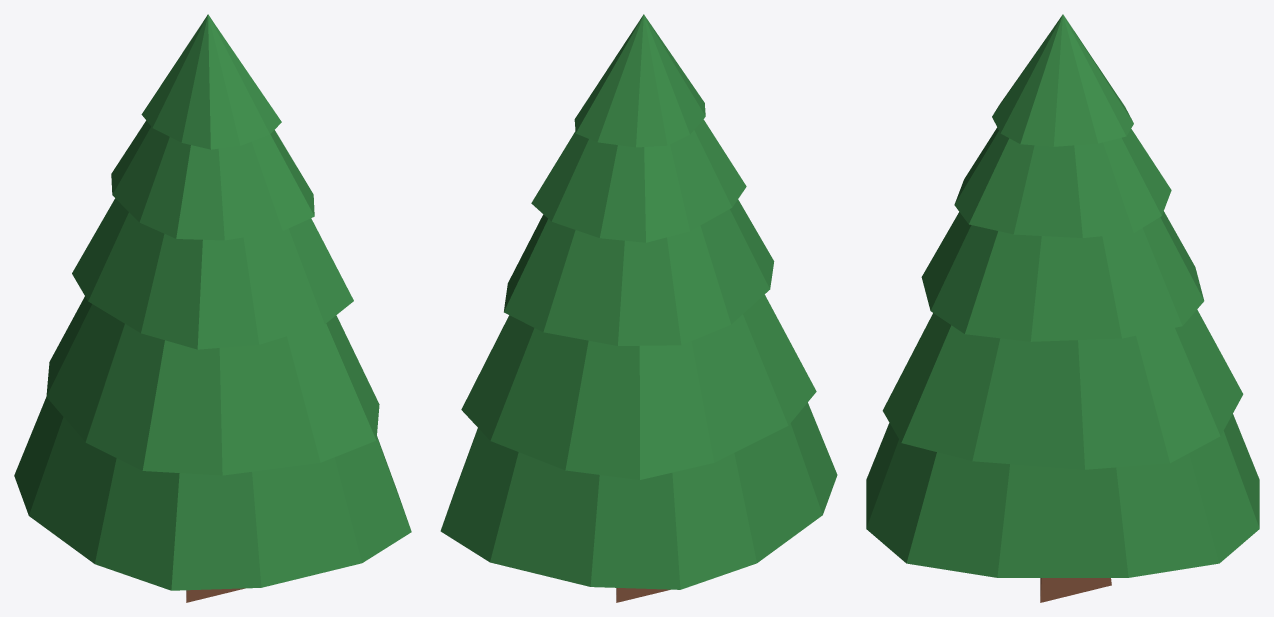
Rendered from tree2.fbx.
3 renders of one model, left to right at view 1: azimuth 30°, elevation 25°; view 2: azimuth 150°, elevation 25°; view 3: azimuth 270°, elevation 25°, orthographic.
Parts seen in each view (by area): view 1: Cube; view 2: Cube; view 3: Cube.
Part boxes in pixels (left/top/right/bottom): Cube: left=14, top=14, right=411, bottom=602; Cube: left=440, top=14, right=837, bottom=602; Cube: left=866, top=14, right=1259, bottom=602.
Bounding box in the file's own units: 117 × 212 × 133.
